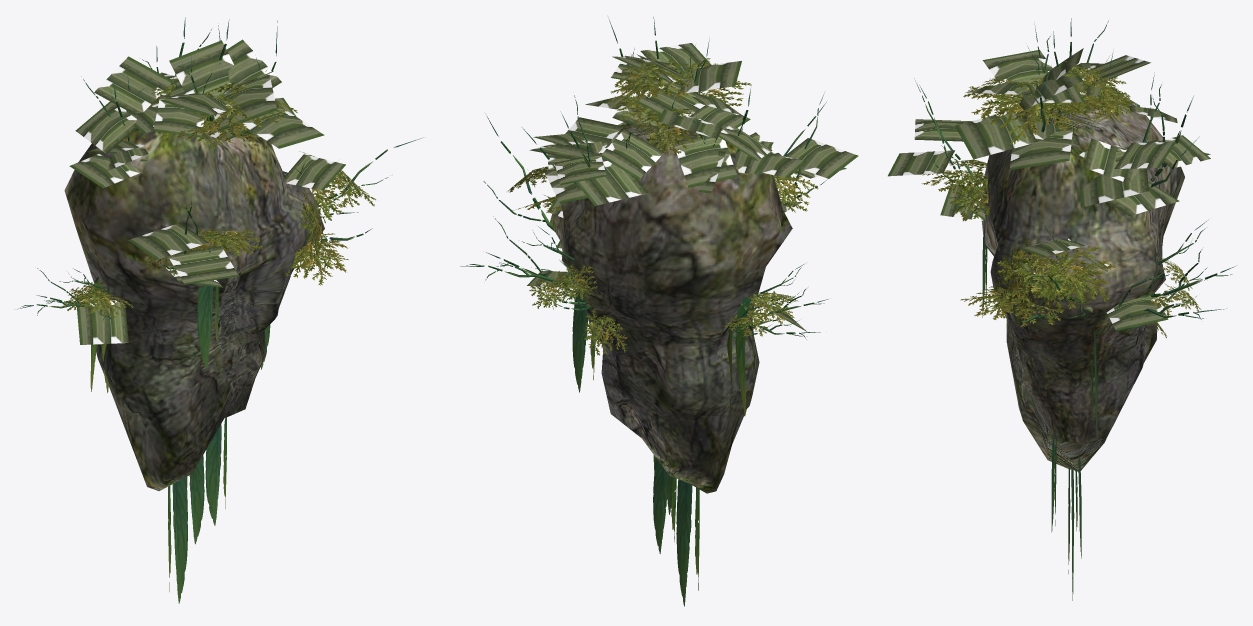
Rendered from S_Rock_Green021.FBX.
The picture shows the model from 3 angles, left to right: view 1: azimuth 30°, elevation 25°; view 2: azimuth 150°, elevation 25°; view 3: azimuth 270°, elevation 25°; orthographic projection. The views are drawn at different scales.
Parts seen in each view (by area): view 1: S_Rock_Green021; view 2: S_Rock_Green021; view 3: S_Rock_Green021.
Boxes of the visible parts, left/top/right/bottom form: S_Rock_Green021: left=17, top=17, right=423, bottom=603; S_Rock_Green021: left=460, top=17, right=858, bottom=606; S_Rock_Green021: left=888, top=18, right=1236, bottom=600.
Bounding box in the file's own units: 950 × 745 × 1404.
